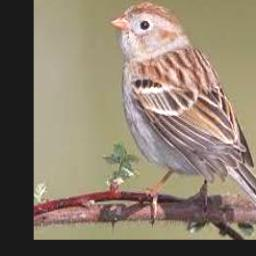Sparrow: (111, 1, 256, 234)
